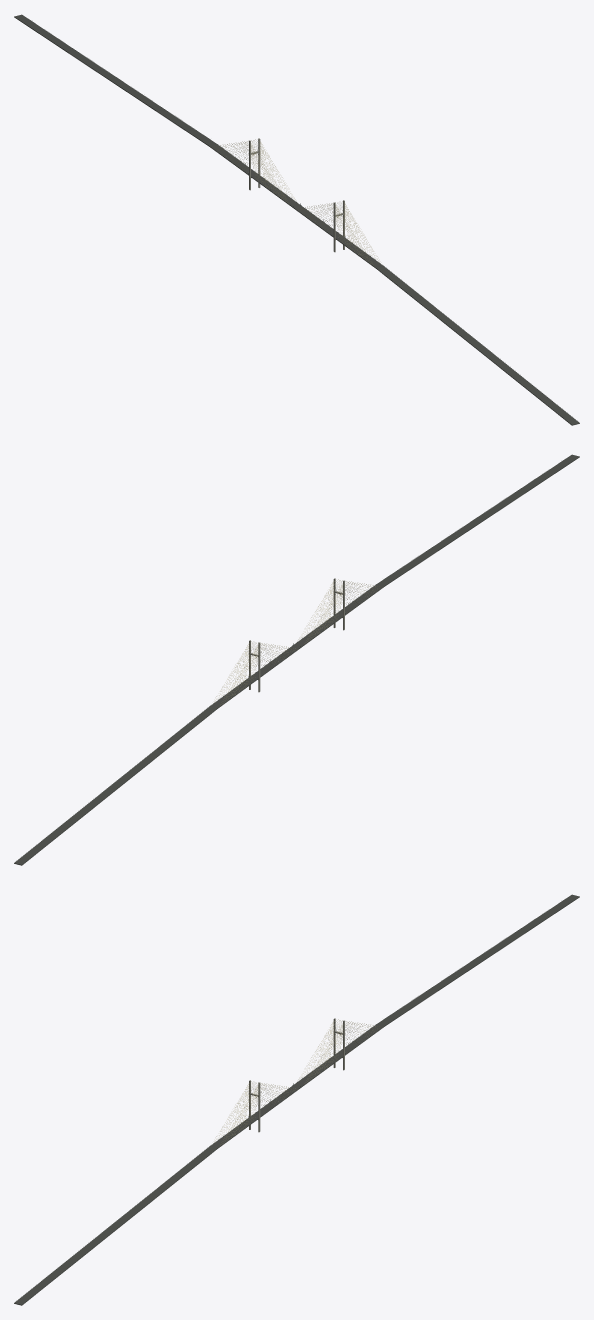
Rendered from vam-cong-near.glb.
3 views of the same model, one above another, from view 1: azimuth 30°, elevation 25°; view 2: azimuth 150°, elevation 25°; view 3: azimuth 330°, elevation 25° (orthographic).
Visible parts, largest first — view 1: vam-cong-near; view 2: vam-cong-near; view 3: vam-cong-near.
Boxes of the visible parts, x1,y1,x2,y2 form: vam-cong-near: (14, 14, 579, 425); vam-cong-near: (14, 454, 579, 865); vam-cong-near: (14, 894, 579, 1305).
Bounding box in the file's own units: 30.9 × 146 × 2966.
